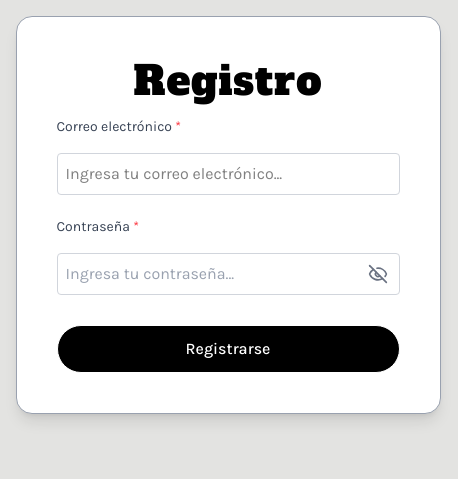
Test: signupPage › deberia mostrar un error si la clave es invalida
Step 1. Type "dariomurillochaverri@gmail.com" into the field with test id "email-input" → [228, 174], box [56, 153, 400, 195]
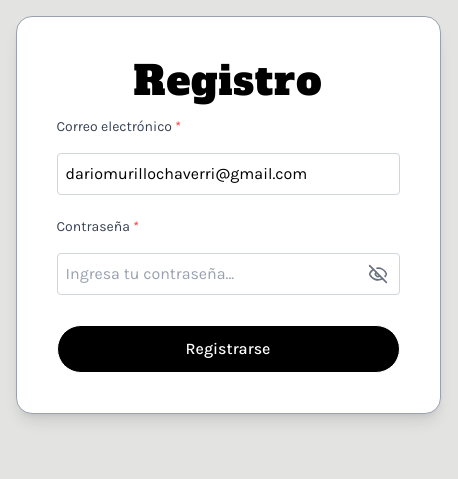
Step 2. Type "admin" into the password field with test id "password-input" → [228, 274], box [56, 253, 400, 295]
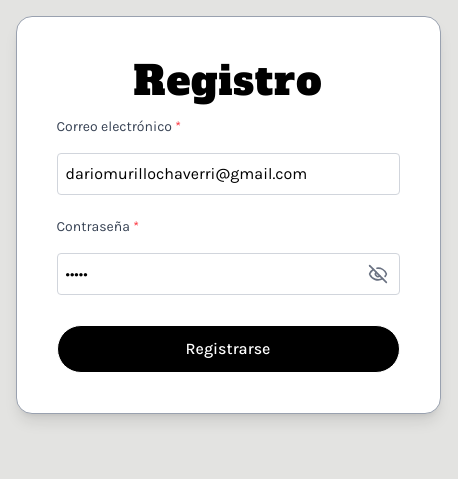
Step 3. Click the button "Registrarse" → [228, 349], box [56, 325, 400, 373]
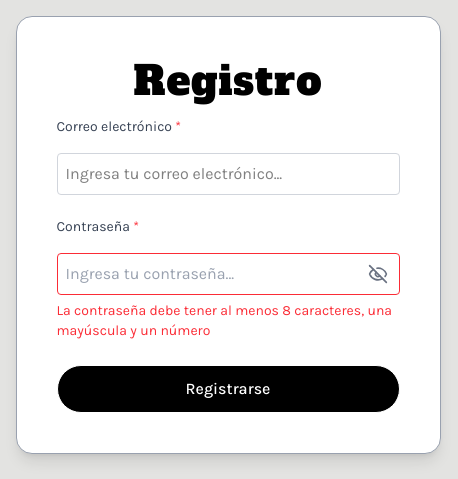
Check: the text "La contraseña debe tener al menos 8 caracteres, una mayúscula y un número" is shown, box [56, 301, 400, 341]
